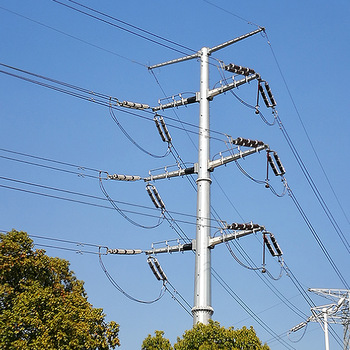utility_pole: (92, 16, 295, 311)
